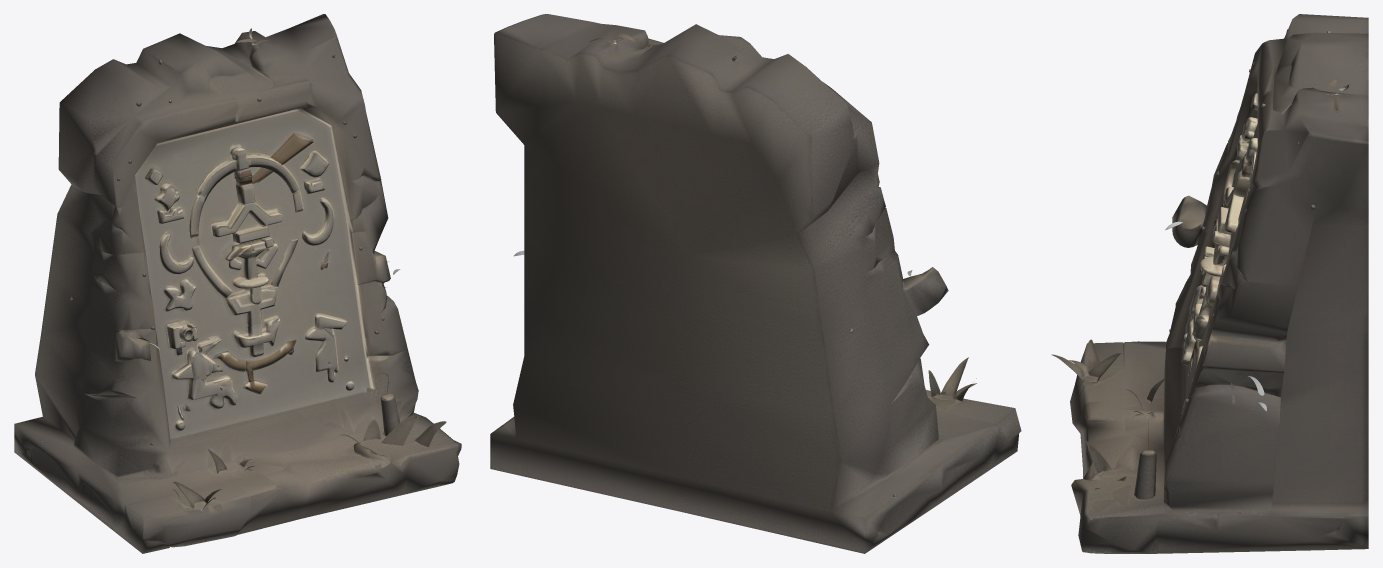
Rendered from monument.glb.
3 renders of one model, left to right at view 1: azimuth 30°, elevation 25°; view 2: azimuth 150°, elevation 25°; view 3: azimuth 270°, elevation 25°, orthographic. The views are drawn at different scales.
Visible parts, largest first — view 1: tripo_9260304b_0471_4d72_a357_2b490fe0783a; view 2: tripo_9260304b_0471_4d72_a357_2b490fe0783a; view 3: tripo_9260304b_0471_4d72_a357_2b490fe0783a.
Boxes of the visible parts, x1,y1,x2,y2 form: tripo_9260304b_0471_4d72_a357_2b490fe0783a: [14, 14, 461, 553]; tripo_9260304b_0471_4d72_a357_2b490fe0783a: [490, 14, 1021, 553]; tripo_9260304b_0471_4d72_a357_2b490fe0783a: [1051, 14, 1368, 553].
Size of the model in its own units: 0.9165 by 0.9995 by 0.6685.
1 material, 1 textured.
